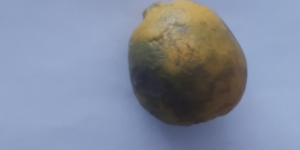BAD: (127, 1, 251, 128)
